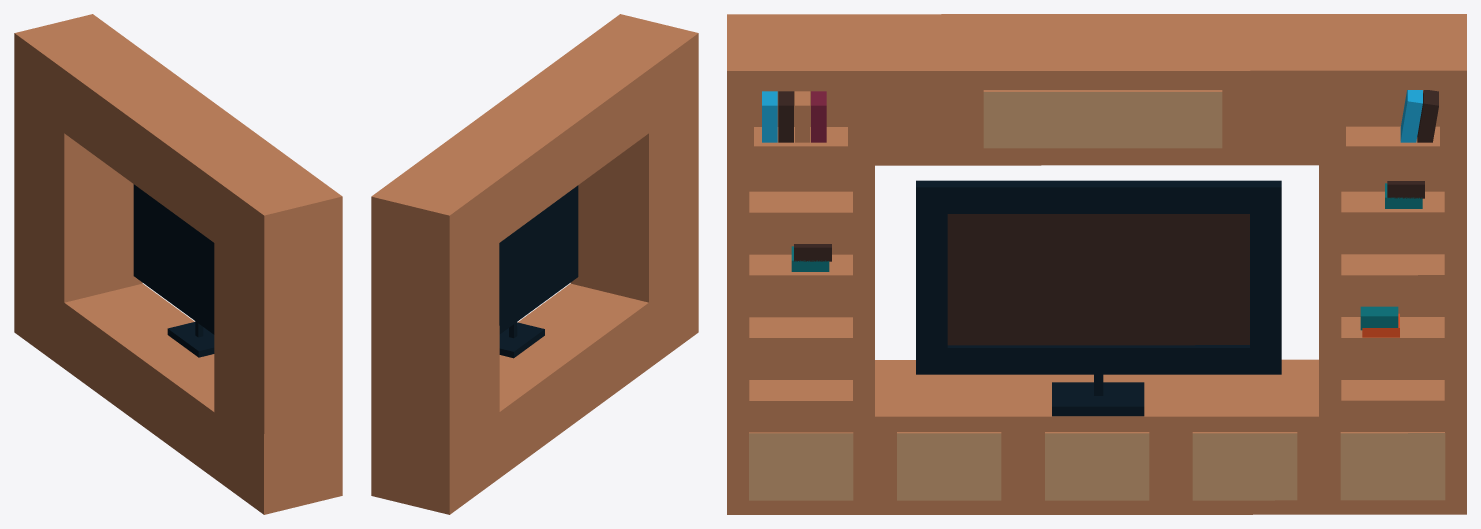
File: tv_unit.fbx
3 views of the same model, side by side, from view 1: azimuth 30°, elevation 25°; view 2: azimuth 150°, elevation 25°; view 3: azimuth 270°, elevation 25° (orthographic). The views are drawn at different scales.
Visible parts, largest first — view 1: Cube.103, Cube.105, Cube.106; view 2: Cube.103, Cube.105, Cube.106; view 3: Cube.103, Cube.105, Cube.106, Cube.177, Cube.178, Cube.180, Cube.160, Cube.169, Cube.170, Cube.172.
Boxes of the visible parts, box(x1,y1,x2,y2) form: Cube.103: box(14, 14, 342, 514); Cube.105: box(133, 184, 214, 334); Cube.106: box(167, 322, 214, 357); Cube.103: box(371, 14, 698, 514); Cube.105: box(499, 185, 578, 334); Cube.106: box(499, 322, 544, 358); Cube.103: box(727, 14, 1466, 514); Cube.105: box(916, 180, 1281, 374); Cube.106: box(1052, 382, 1144, 416); Cube.177: box(1400, 90, 1422, 142); Cube.178: box(1417, 90, 1438, 142); Cube.180: box(1360, 306, 1398, 330); Cube.160: box(778, 91, 793, 142); Cube.169: box(811, 91, 826, 142); Cube.170: box(762, 91, 777, 142); Cube.172: box(795, 91, 810, 142).
Size of the model in its own units: 54.54 by 191 by 289.
